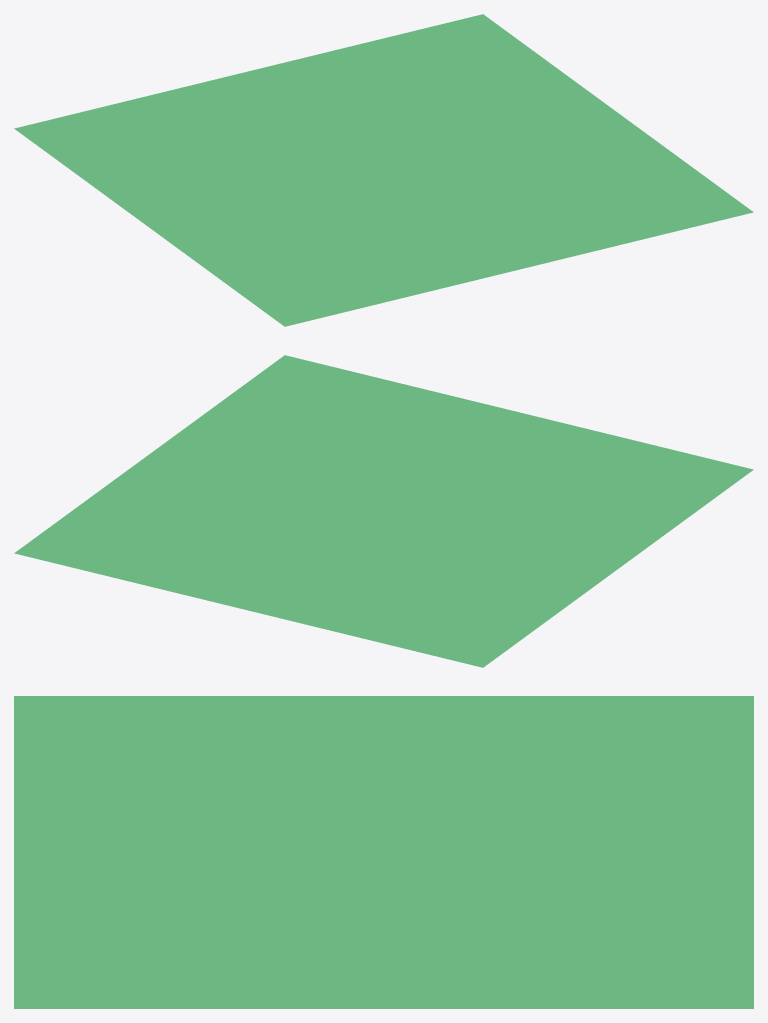
Rendered from m13_morph_anim.fbx.
3 renders of one model, top to bottom at view 1: azimuth 30°, elevation 25°; view 2: azimuth 150°, elevation 25°; view 3: azimuth 270°, elevation 25°, orthographic. The views are drawn at different scales.
Parts seen in each view (by area): view 1: MorphAnim; view 2: MorphAnim; view 3: MorphAnim.
Boxes of the visible parts, box(x1,y1,x2,y2) form: MorphAnim: box(14, 14, 753, 326); MorphAnim: box(14, 355, 753, 667); MorphAnim: box(14, 696, 753, 1008).
Bounding box in the file's own units: 2.4 × 1.47e-16 × 2.4.
